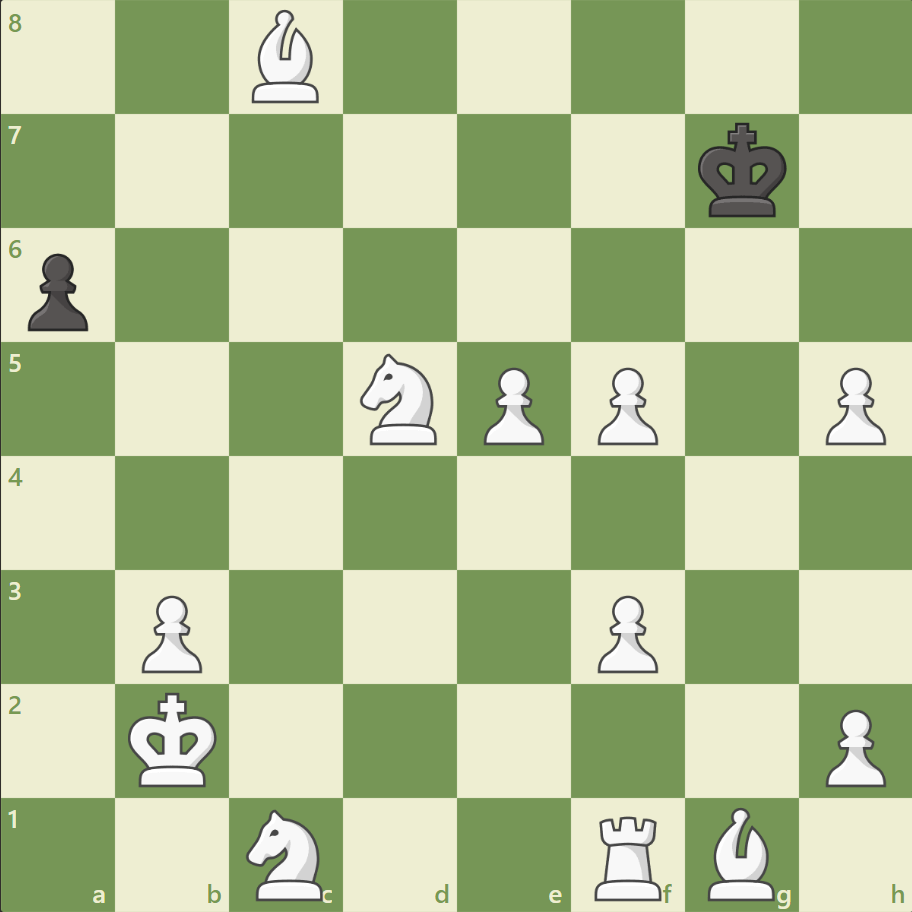B: (244, 6, 328, 109), (698, 801, 782, 904)
K: (124, 685, 224, 793)
N: (351, 348, 449, 450), (238, 802, 335, 904)
P: (474, 359, 549, 450), (133, 586, 208, 677), (588, 359, 662, 450), (815, 359, 889, 450), (588, 586, 662, 677), (815, 700, 889, 791)
R: (587, 806, 670, 904)
k: (692, 117, 792, 225)
p: (20, 246, 95, 337)
